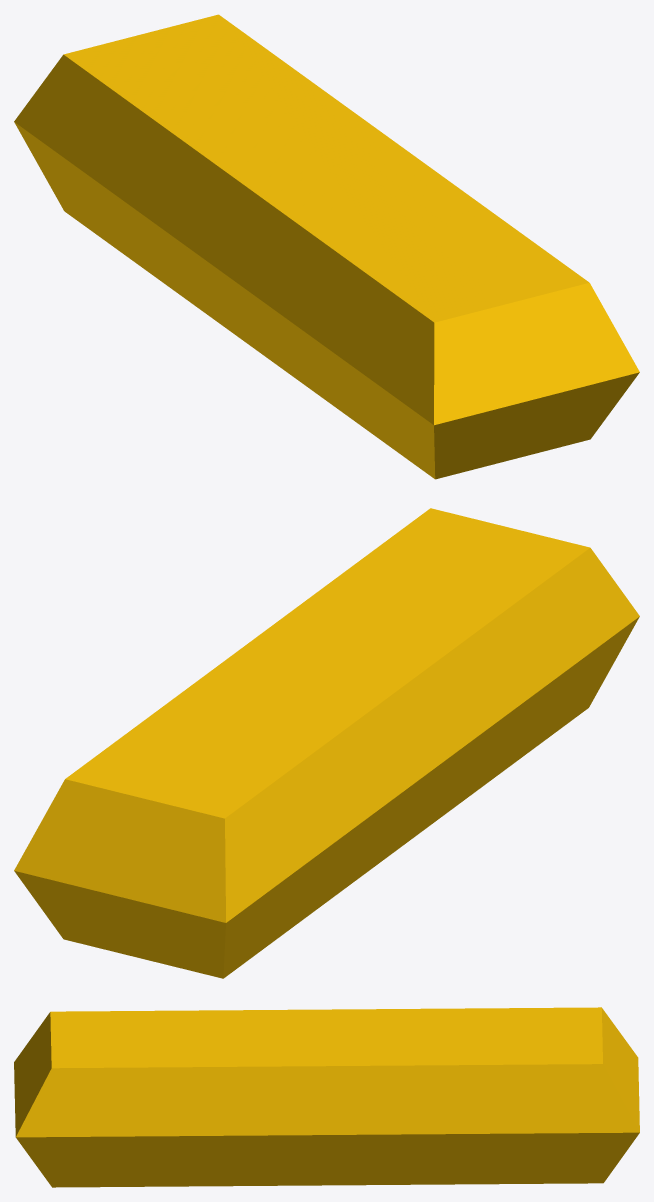
Rendered from GoldRessource.fbx.
3 renders of one model, top to bottom at view 1: azimuth 30°, elevation 25°; view 2: azimuth 150°, elevation 25°; view 3: azimuth 270°, elevation 25°, orthographic. The views are drawn at different scales.
Parts seen in each view (by area): view 1: World.001; view 2: World.001; view 3: World.001.
Boxes of the visible parts, x1=… form: World.001: x1=14, y1=14, x2=639, y2=479; World.001: x1=14, y1=508, x2=639, y2=978; World.001: x1=14, y1=1007, x2=639, y2=1187.
Bounding box in the file's own units: 3.41 × 2.46 × 11.44.
